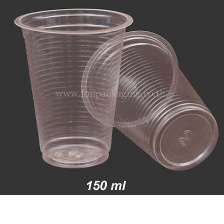glass: (77, 19, 223, 179), (10, 6, 133, 172)
